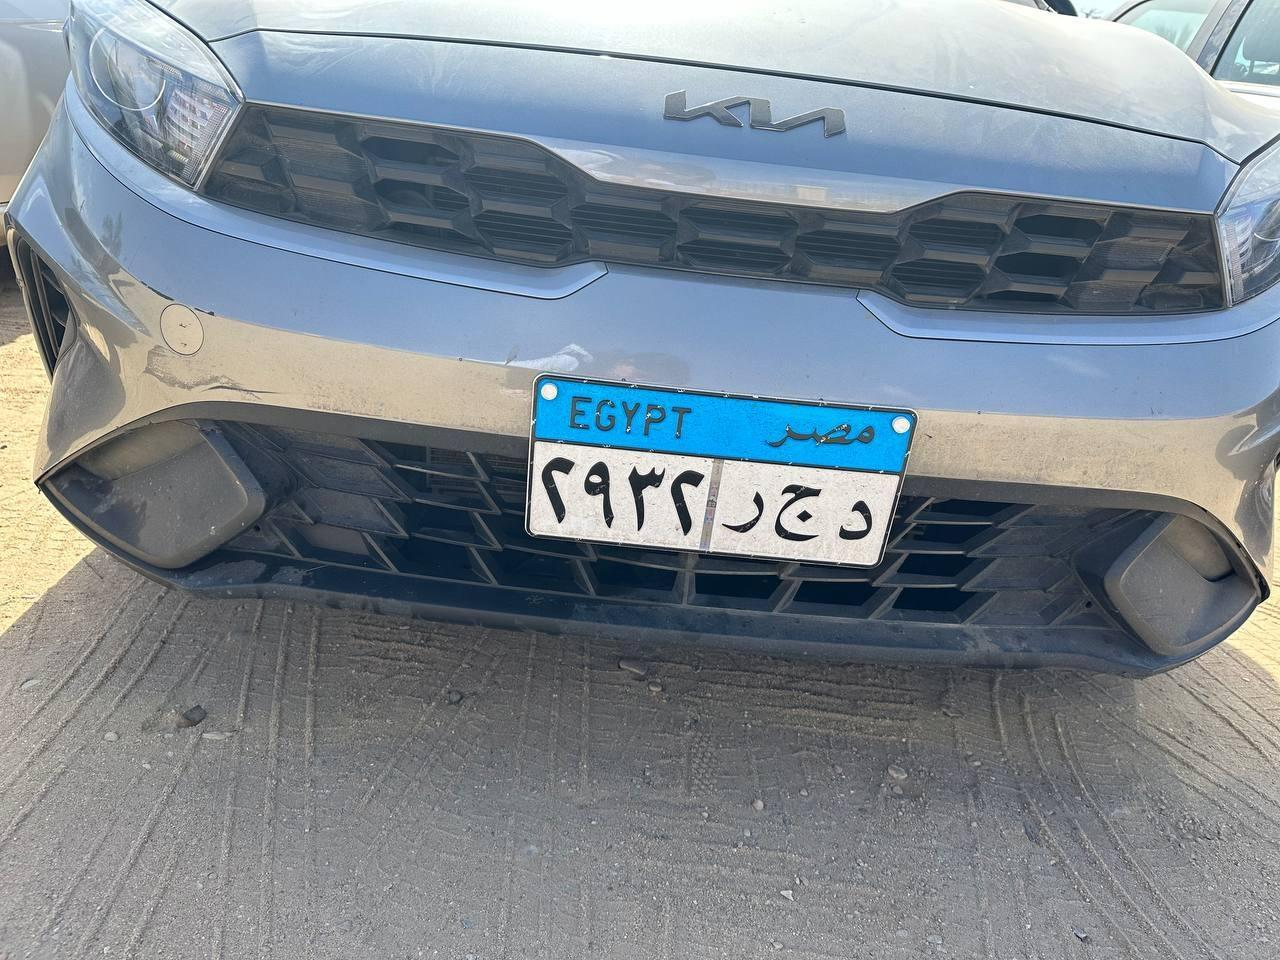License Plate: (524, 368, 914, 588)
